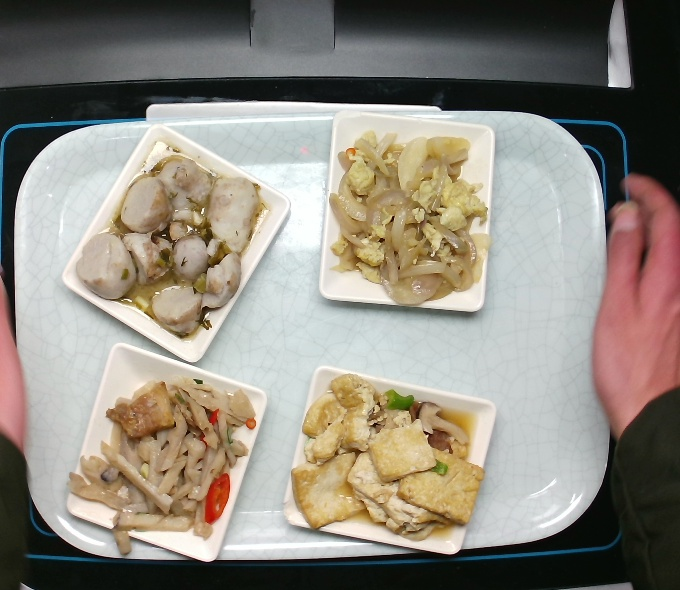wcq-JiaChangDouFu: (281, 371, 485, 544)
wcq-QingChaoOuPian: (68, 375, 257, 559)
wcq-YangCongChaoDan: (314, 128, 502, 309)
wcq-YangYu: (77, 147, 268, 337)
